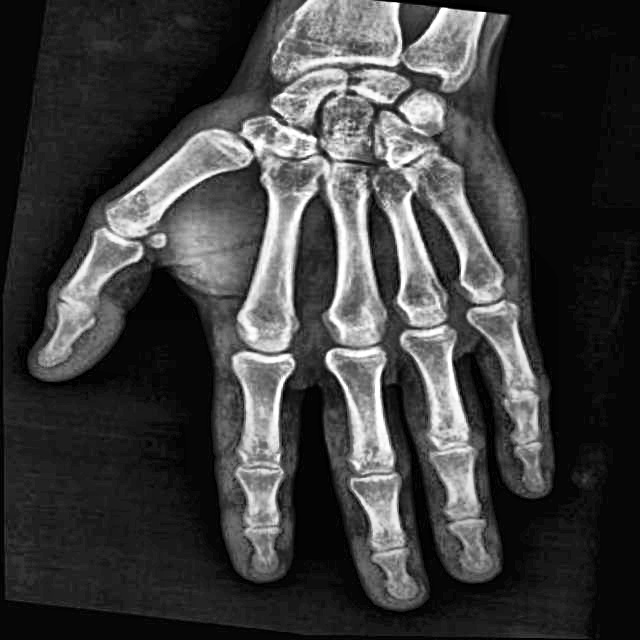Healthy: (58, 40, 587, 554)
